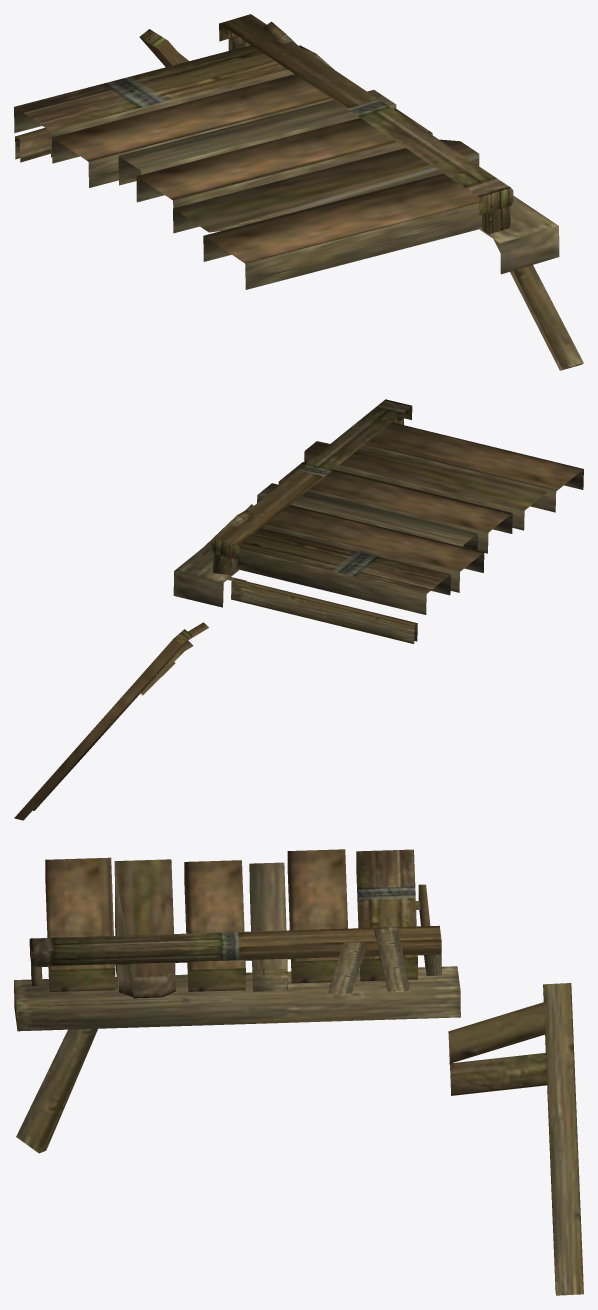
The model's file is S_Build_West058_1.FBX.
3 views of the same model, one above another, from view 1: azimuth 30°, elevation 25°; view 2: azimuth 150°, elevation 25°; view 3: azimuth 270°, elevation 25° (orthographic). The views are drawn at different scales.
Visible parts, largest first — view 1: S_Build_West058_1; view 2: S_Build_West058_1; view 3: S_Build_West058_1.
Boxes of the visible parts, box(x1,y1,x2,y2) form: S_Build_West058_1: box(14, 14, 583, 370); S_Build_West058_1: box(14, 399, 583, 820); S_Build_West058_1: box(14, 849, 583, 1295).
Bounding box in the file's own units: 404 × 546 × 313.
